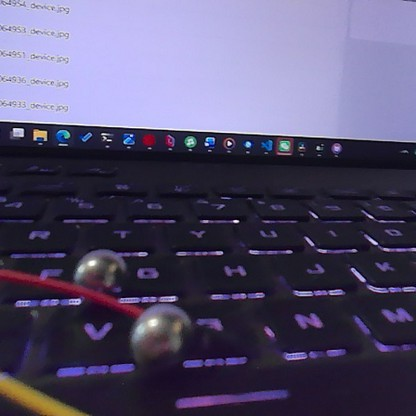ironball: (123, 297, 197, 375), (71, 248, 130, 312)
